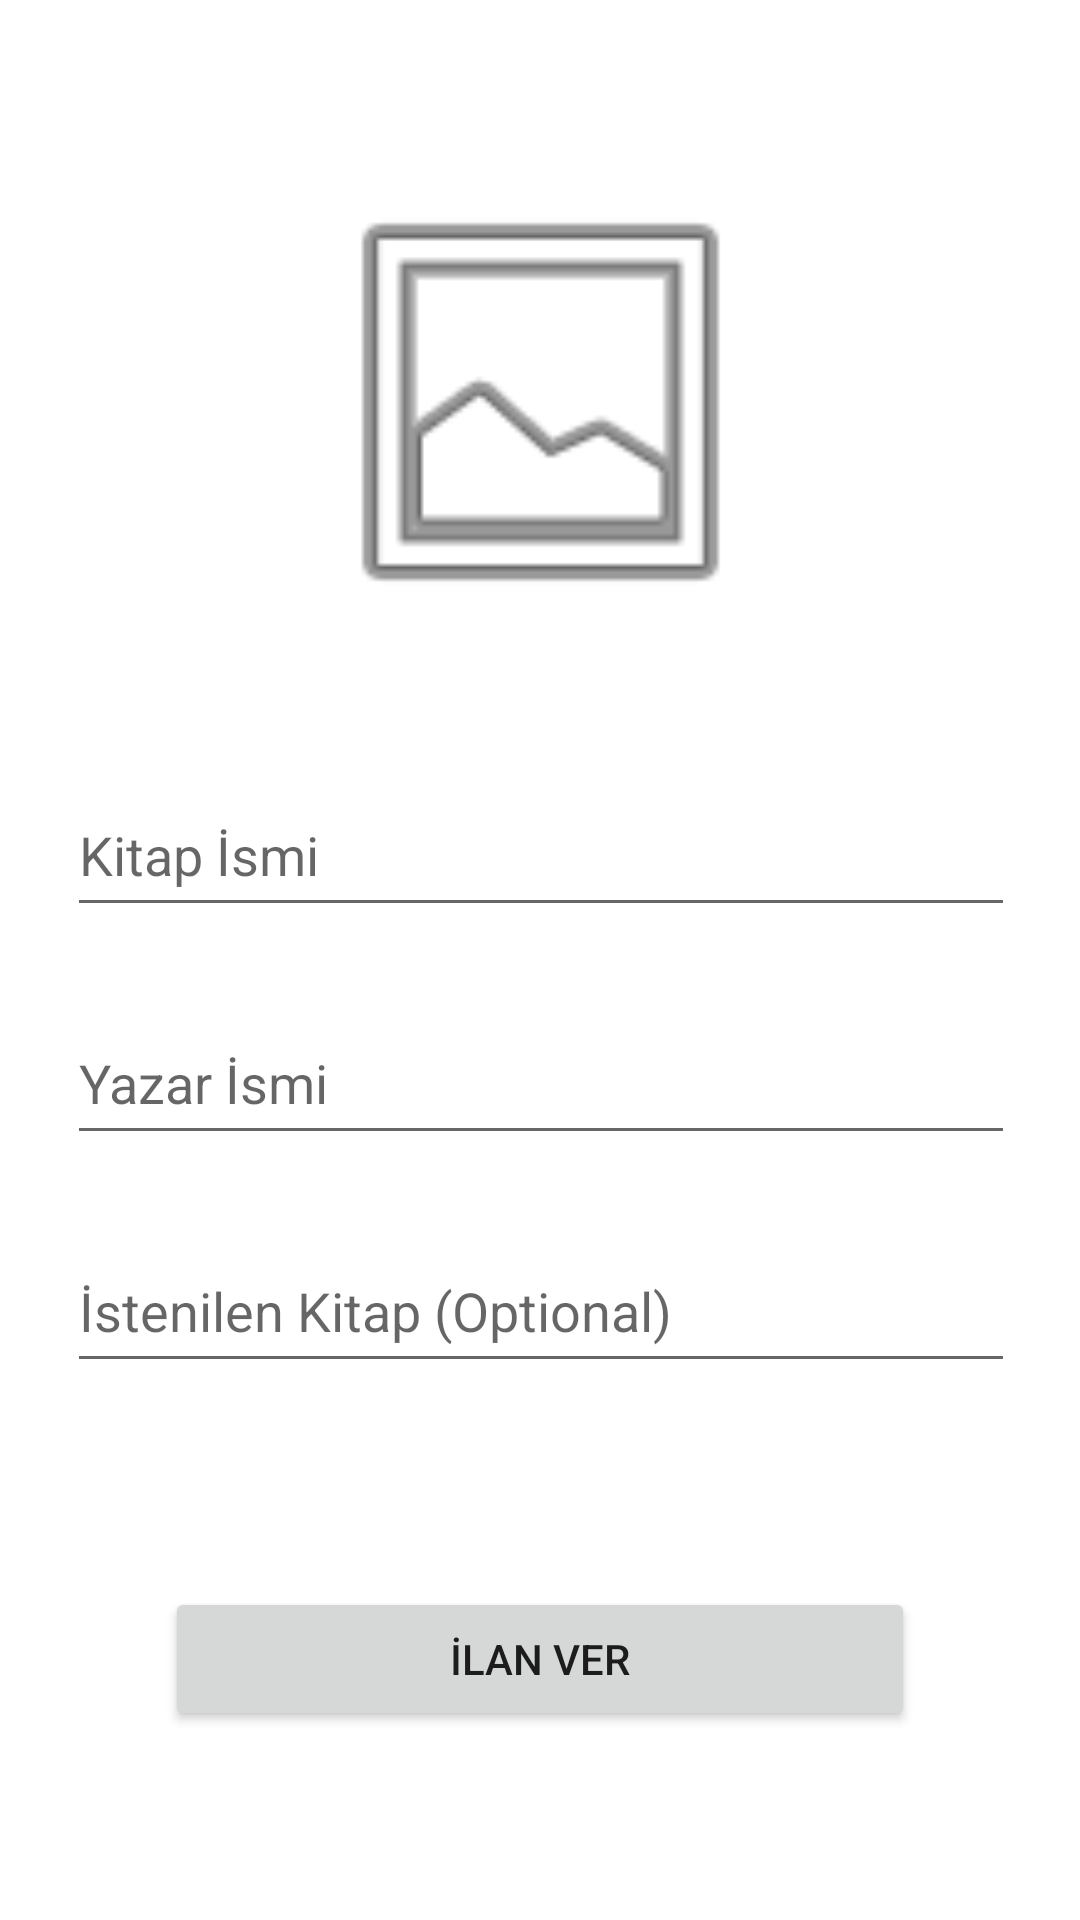

Point at icon controls on the screen. Image size 1080×1920, points as point (x, y).
gallery: point (540, 402)
